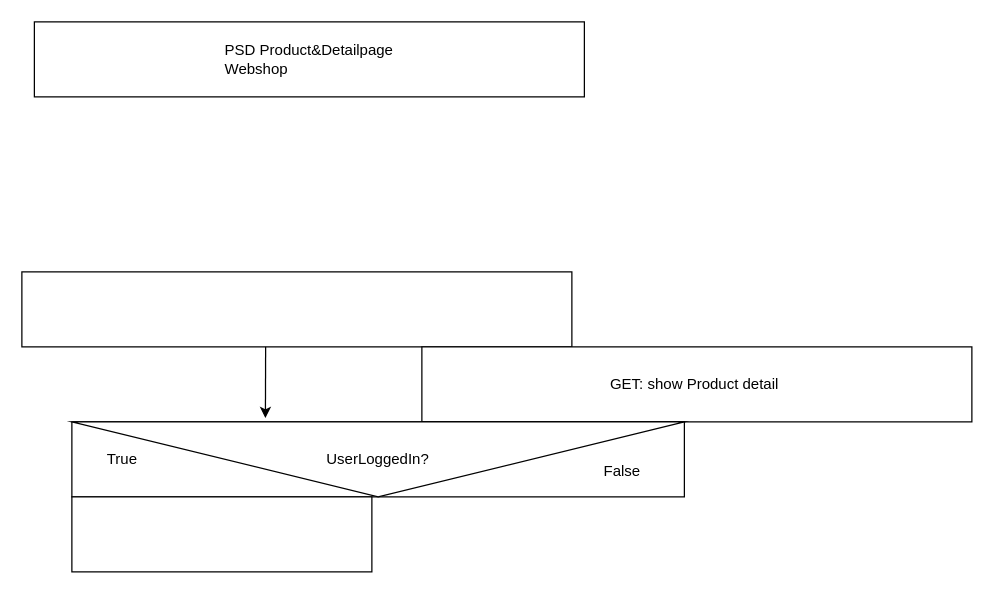
The diagram is 994 pixels wide and 594 high, and some of its shapes have lost their labels. The shapes that lost their labels are listed below. From the top down, each one's centre as x and y in pixels, then its label:
At [296,309]: "Init: click on product".
At [221,534]: "Show Shopping Cart".
